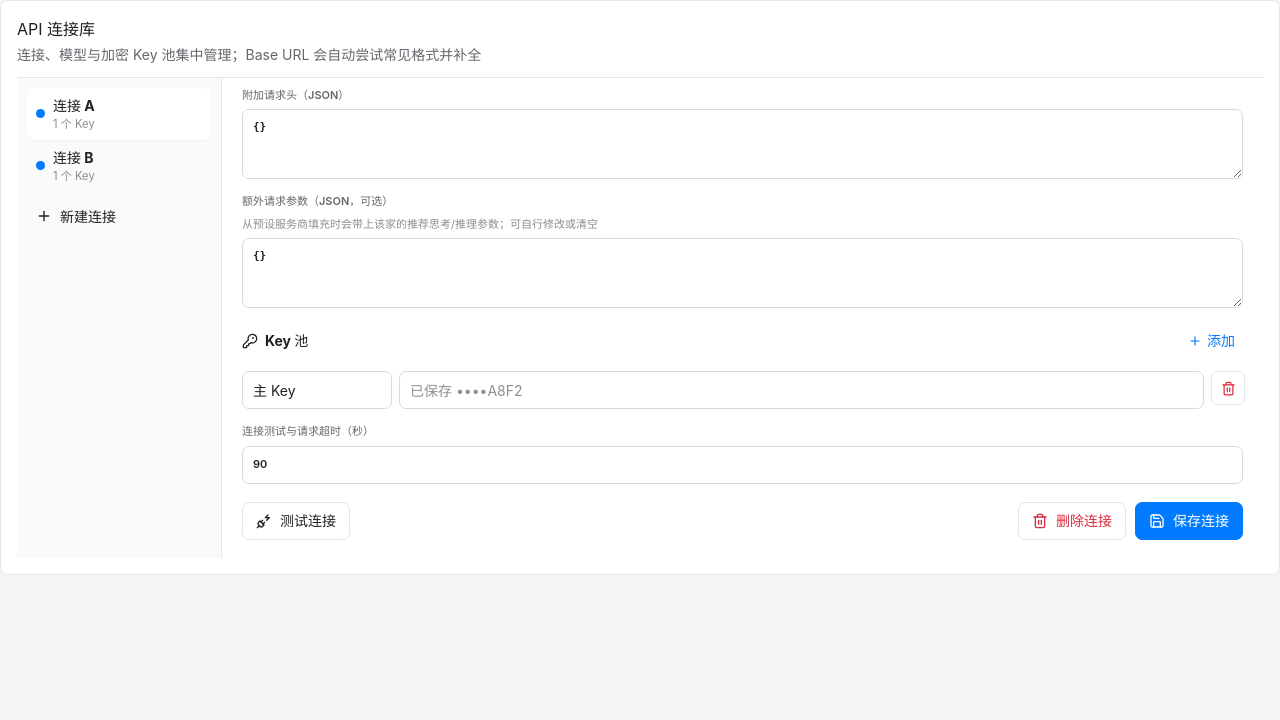
Test: ConnectionsView › runs a connection test and surfaces the auto-completed base url
This screenshot has width=1280, height=720.
(page scrolled)
Click the button "测试连接".
click(296, 520)  # box [242, 502, 350, 540]
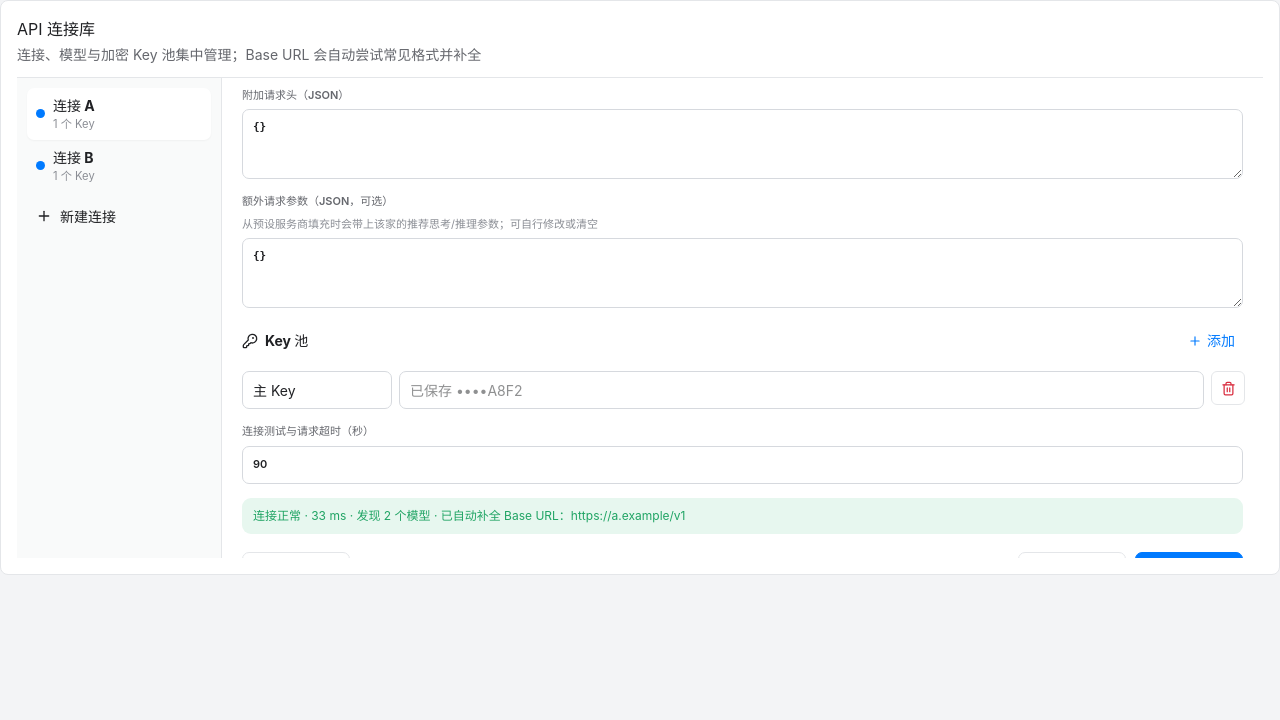
Expected: the text "连接正常 · 33 ms · 发现 2 个模型" is shown, [253, 508, 686, 522]
